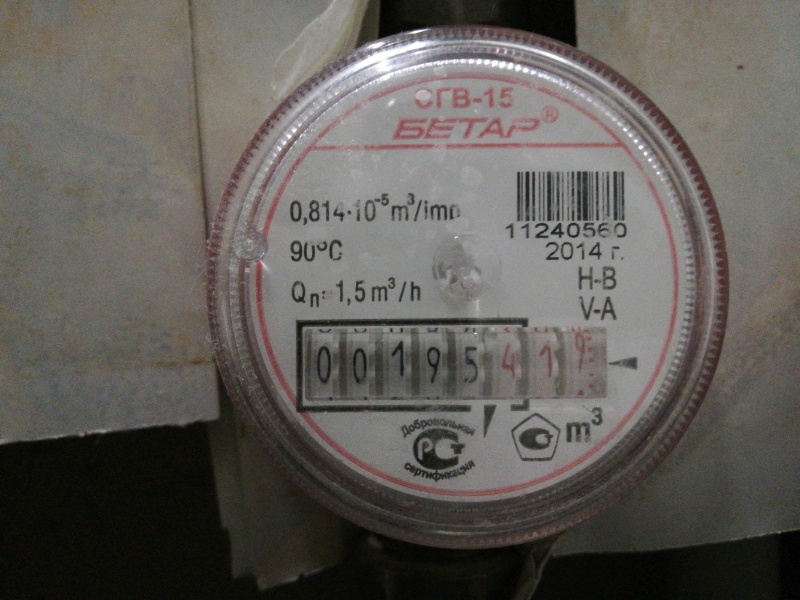meter: (277, 315, 616, 403)
